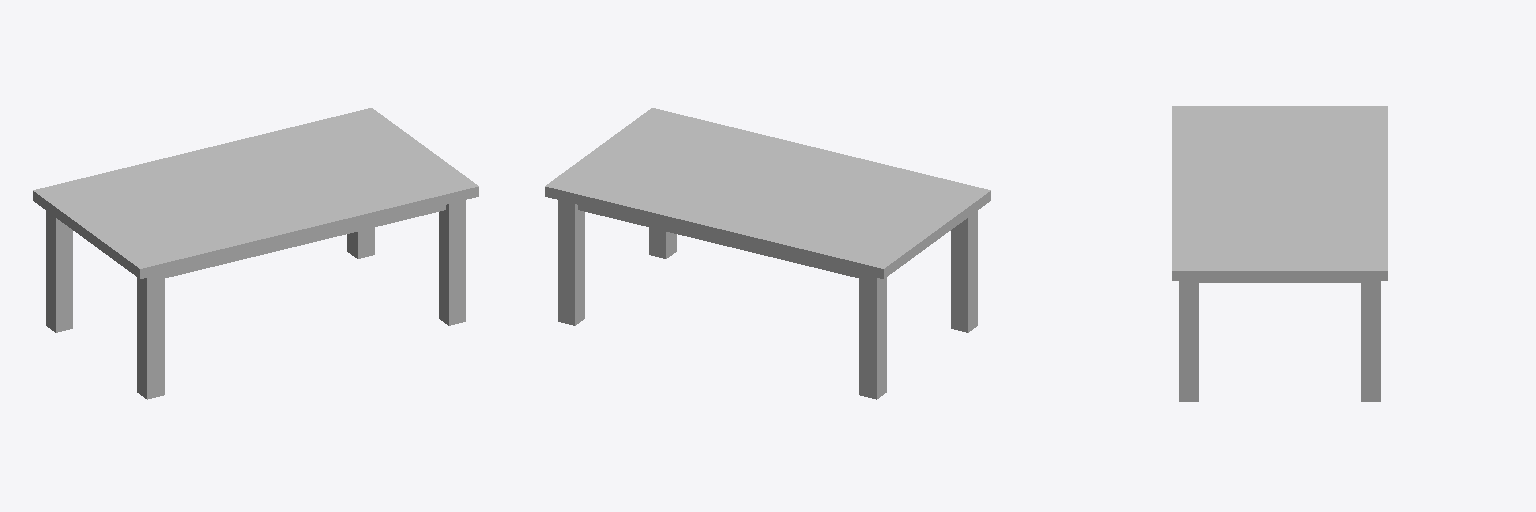
Rendered from table.obj.
3 renders of one model, left to right at view 1: azimuth 30°, elevation 25°; view 2: azimuth 150°, elevation 25°; view 3: azimuth 270°, elevation 25°, orthographic.
Parts seen in each view (by area): view 1: Plane_Plane.001; view 2: Plane_Plane.001; view 3: Plane_Plane.001.
Boxes of the visible parts, x1=… form: Plane_Plane.001: x1=33, y1=108, x2=478, y2=399; Plane_Plane.001: x1=545, y1=108, x2=990, y2=399; Plane_Plane.001: x1=1172, y1=106, x2=1387, y2=401.
Size of the model in its own units: 7.62 by 2.91 by 4.19.